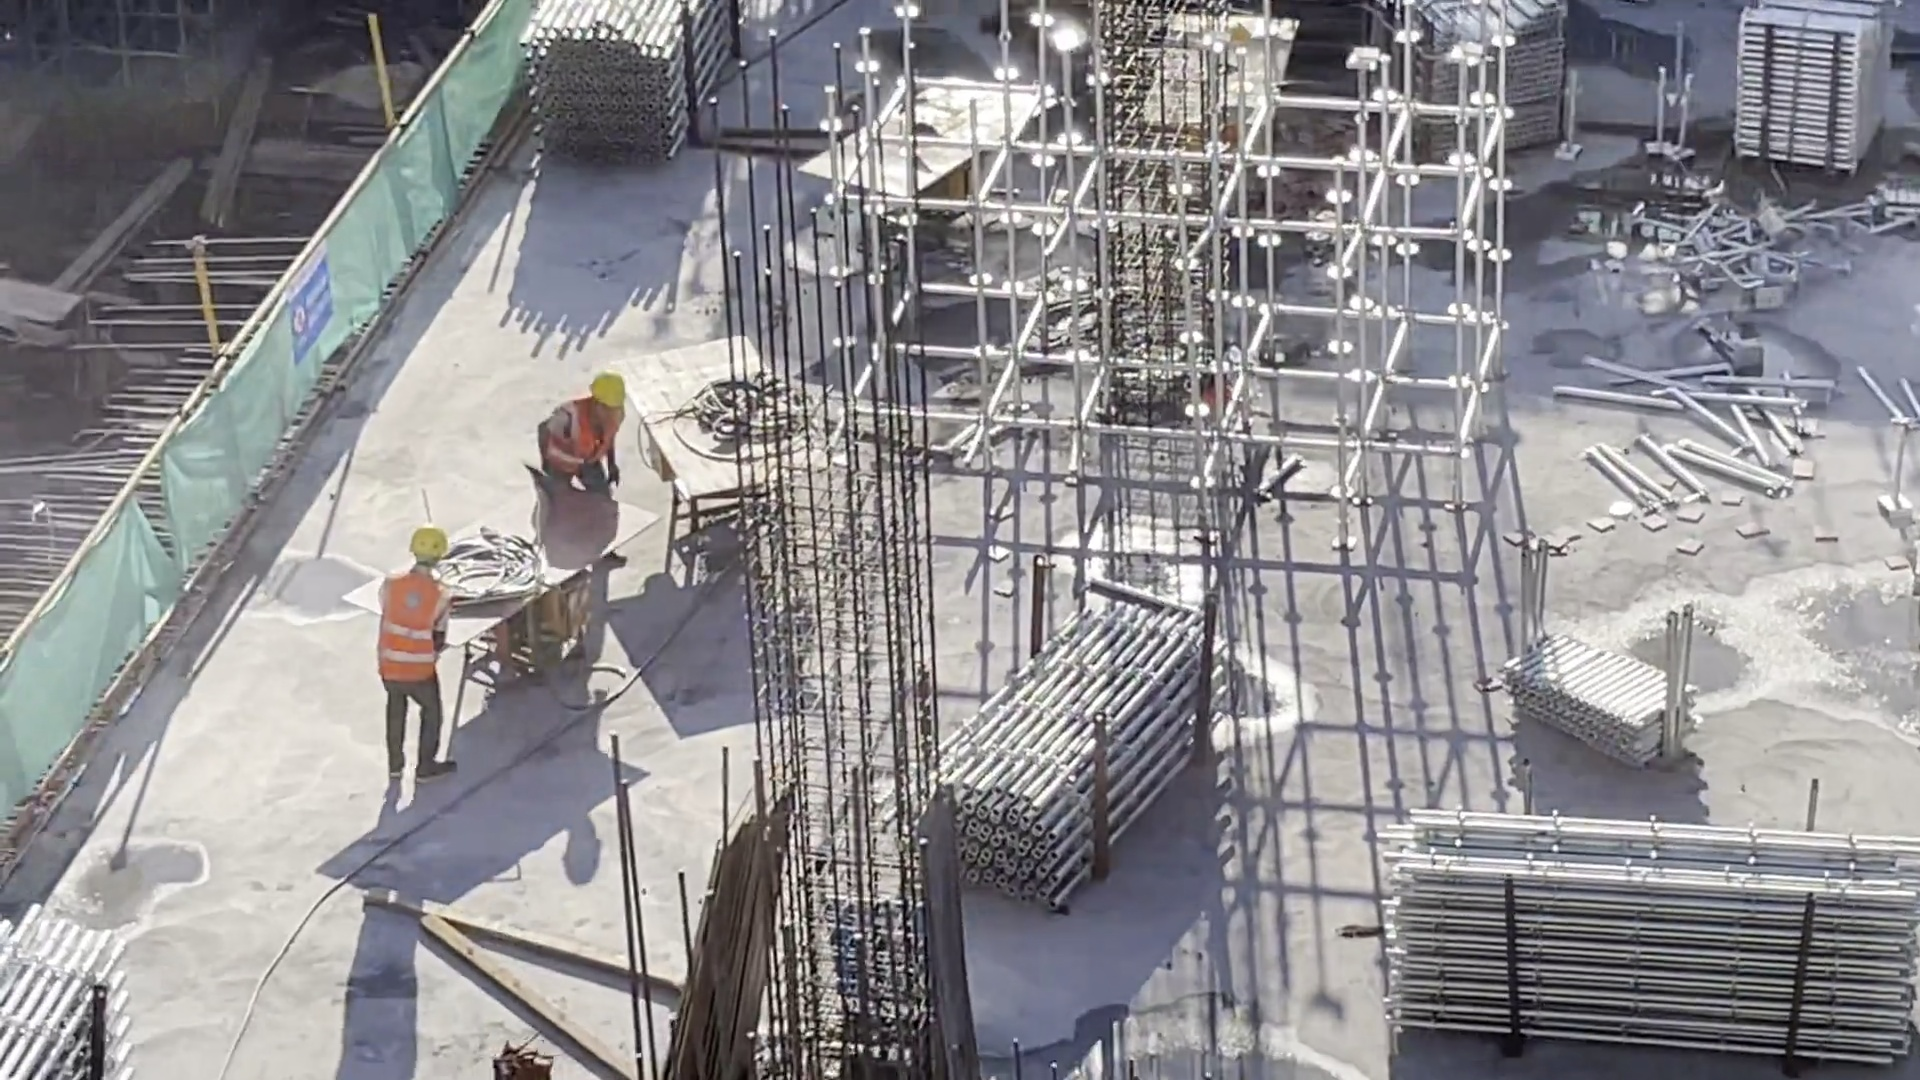board: (668, 761, 795, 1080)
cutter: (640, 323, 852, 598), (825, 58, 1051, 271), (448, 483, 636, 727), (1129, 6, 1311, 193)
helmet: (585, 364, 623, 434), (408, 532, 463, 561)
person: (360, 520, 481, 787), (522, 369, 641, 515)
scaffold: (1381, 822, 1902, 1060), (929, 578, 1219, 911), (1350, 1, 1551, 185), (1718, 11, 1911, 187), (519, 1, 709, 178), (1, 884, 163, 1077), (1515, 618, 1690, 776), (1616, 205, 1845, 303)
slogan: (273, 234, 341, 390)
vest: (384, 572, 438, 689), (556, 401, 625, 469)
